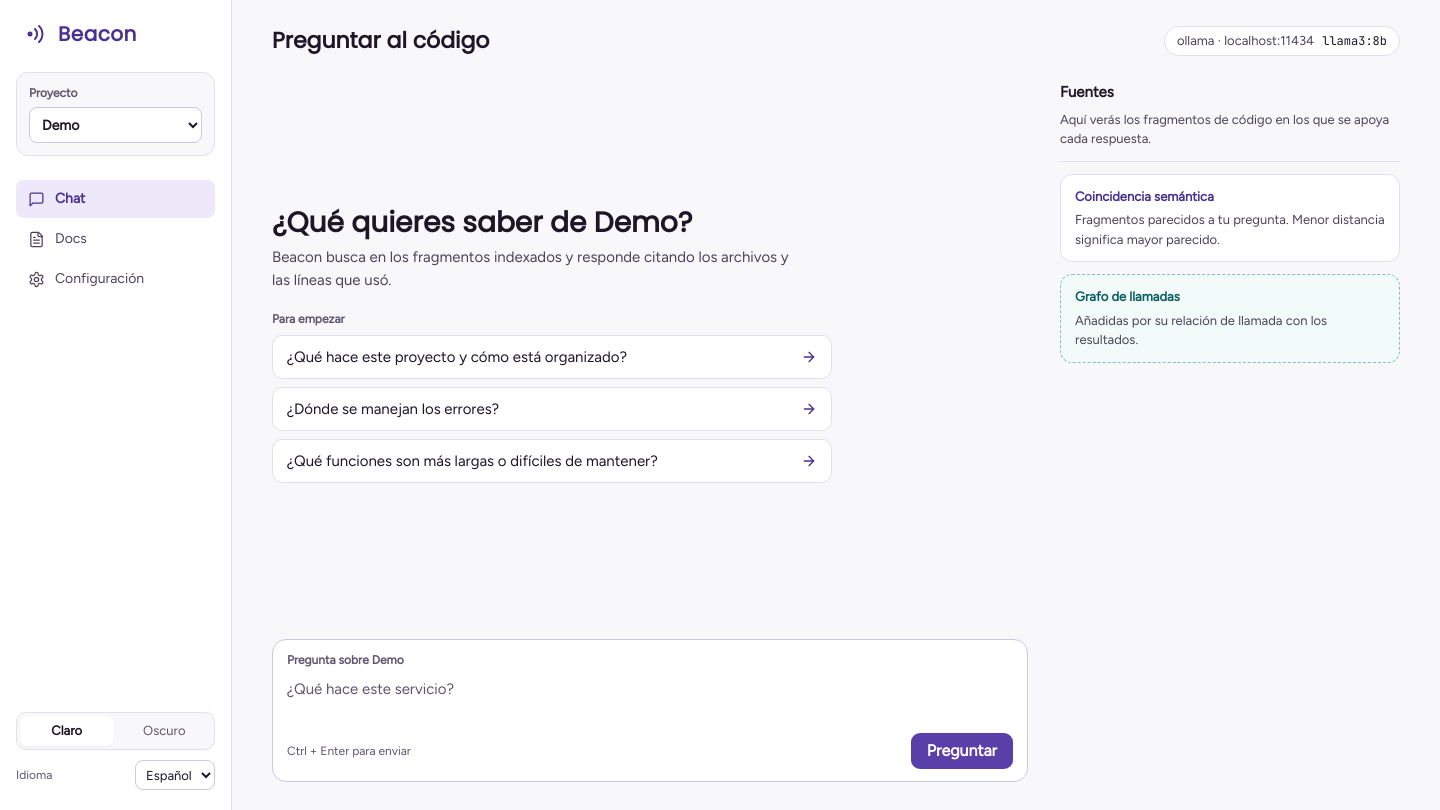
Test: chat › envía una pregunta de ejemplo con un clic
Click the button "¿Dónde se manejan los errores?".
click(393, 409)  # box [272,387,832,431]
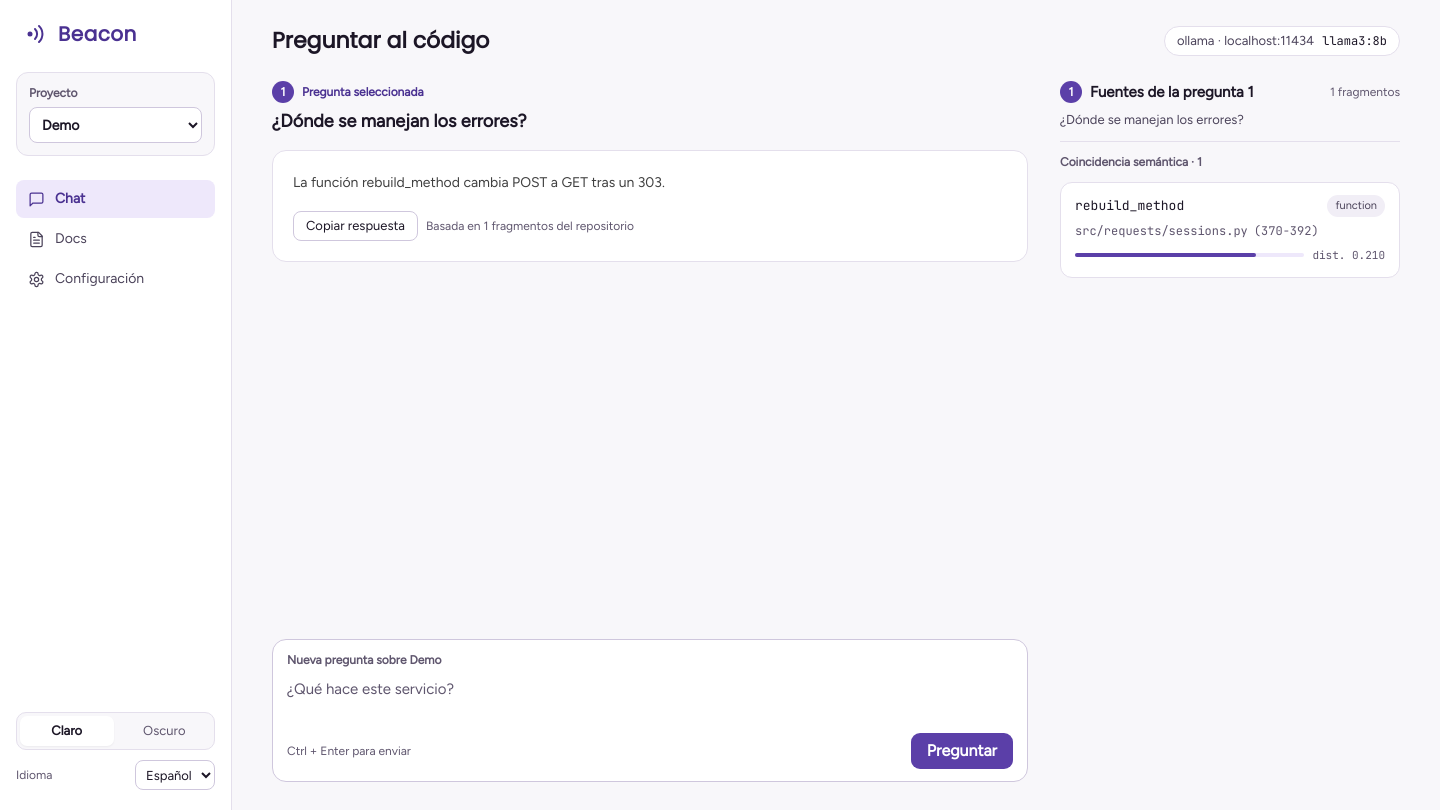
Check: the heading "Fuentes de la pregunta 1" is shown, box [1090,81,1254,104]
